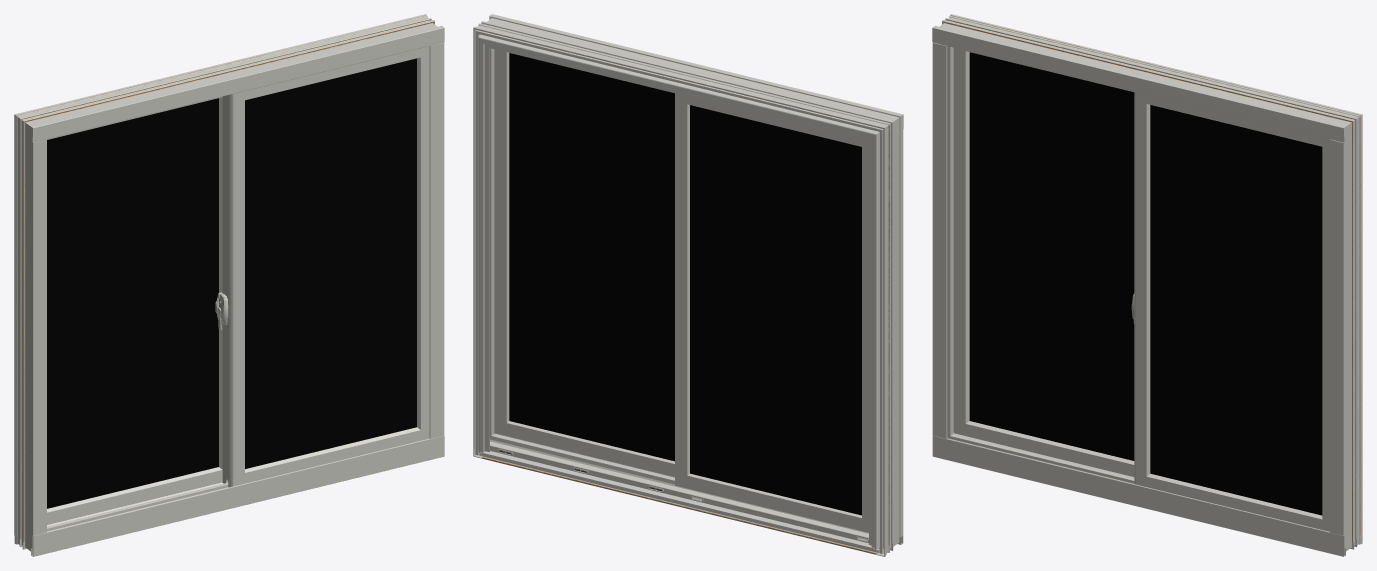
Rendered from 19_W_GlidingDouble_v01.glb.
3 views of the same model, side by side, from view 1: azimuth 30°, elevation 25°; view 2: azimuth 150°, elevation 25°; view 3: azimuth 330°, elevation 25° (orthographic).
Parts seen in each view (by area): view 1: 19_W_Glass, 19_W_Interior, 19_W_Exterior; view 2: 19_W_Glass, 19_W_Exterior, 19_W_Interior; view 3: 19_W_Glass, 19_W_Interior, 19_W_Exterior.
Boxes of the visible parts, <box> form: 19_W_Glass: <box>47,58,416,508</box>; 19_W_Interior: <box>25,23,444,556</box>; 19_W_Exterior: <box>14,14,434,555</box>; 19_W_Glass: <box>509,53,861,515</box>; 19_W_Exterior: <box>473,21,901,556</box>; 19_W_Interior: <box>487,14,903,543</box>; 19_W_Glass: <box>969,52,1322,515</box>; 19_W_Interior: <box>932,23,1351,556</box>; 19_W_Exterior: <box>942,14,1362,555</box>.
Size of the model in its own units: 1.24 by 1.23 by 0.1059.
Materials: 5 (5 with a texture image).
